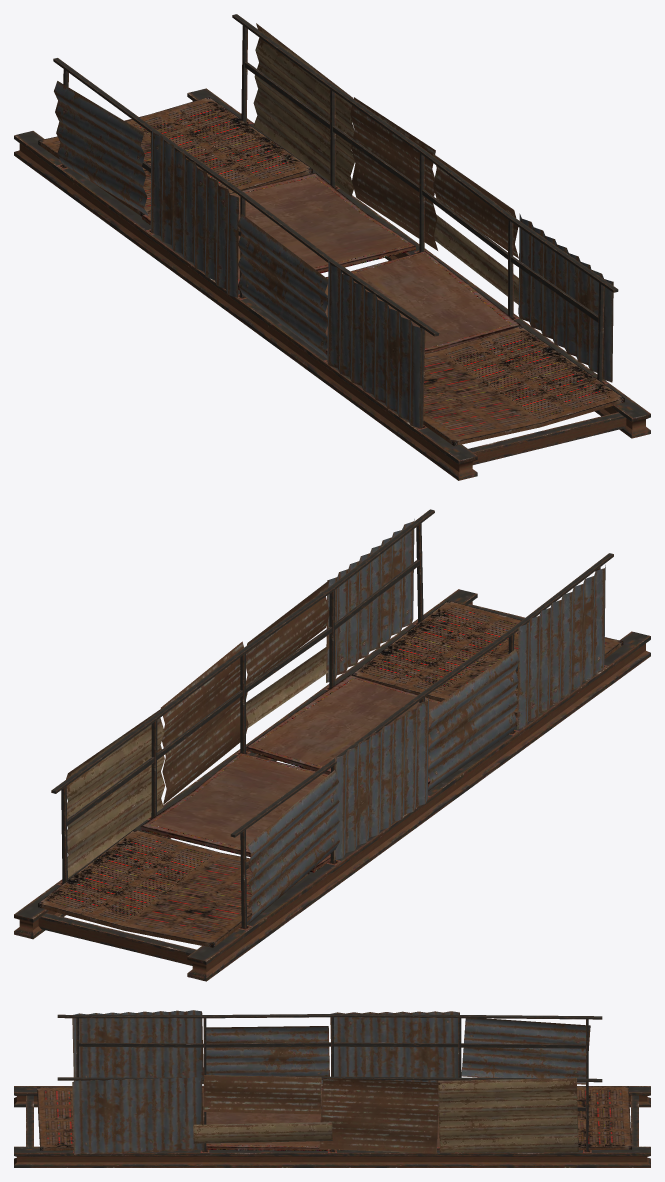
File: spheretank_walkway_a.glb
The picture shows the model from 3 angles, top to bottom: view 1: azimuth 30°, elevation 25°; view 2: azimuth 150°, elevation 25°; view 3: azimuth 270°, elevation 25°; orthographic projection. The views are drawn at different scales.
Parts seen in each view (by area): view 1: spheretank_walkway_a_LOD0; view 2: spheretank_walkway_a_LOD0; view 3: spheretank_walkway_a_LOD0.
Part boxes in pixels (x1,y1,x2,y2): spheretank_walkway_a_LOD0: [14, 14, 650, 480]; spheretank_walkway_a_LOD0: [14, 509, 650, 981]; spheretank_walkway_a_LOD0: [14, 1010, 650, 1167].
Bounding box in the file's own units: 2.58 × 1.58 × 10.
Materials: 5 (5 with a texture image).
